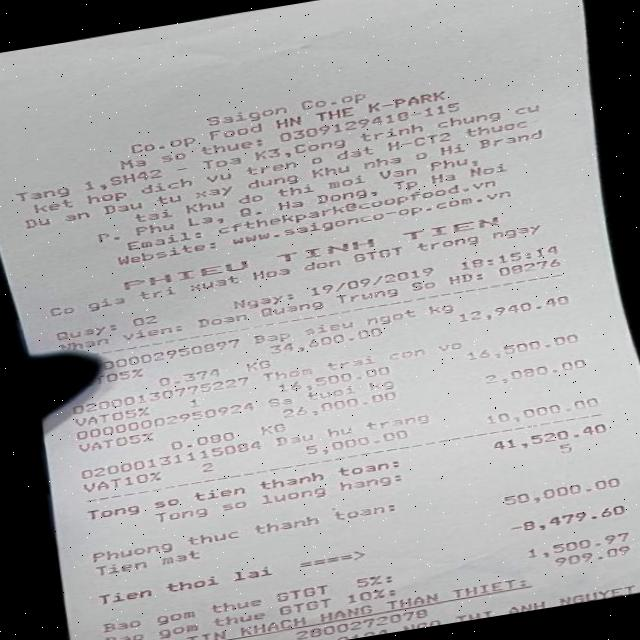Date: (306, 262, 443, 300)
Store_Name: (204, 85, 372, 132)
amount_number: (486, 418, 614, 455)
label_total: (84, 454, 393, 524)
